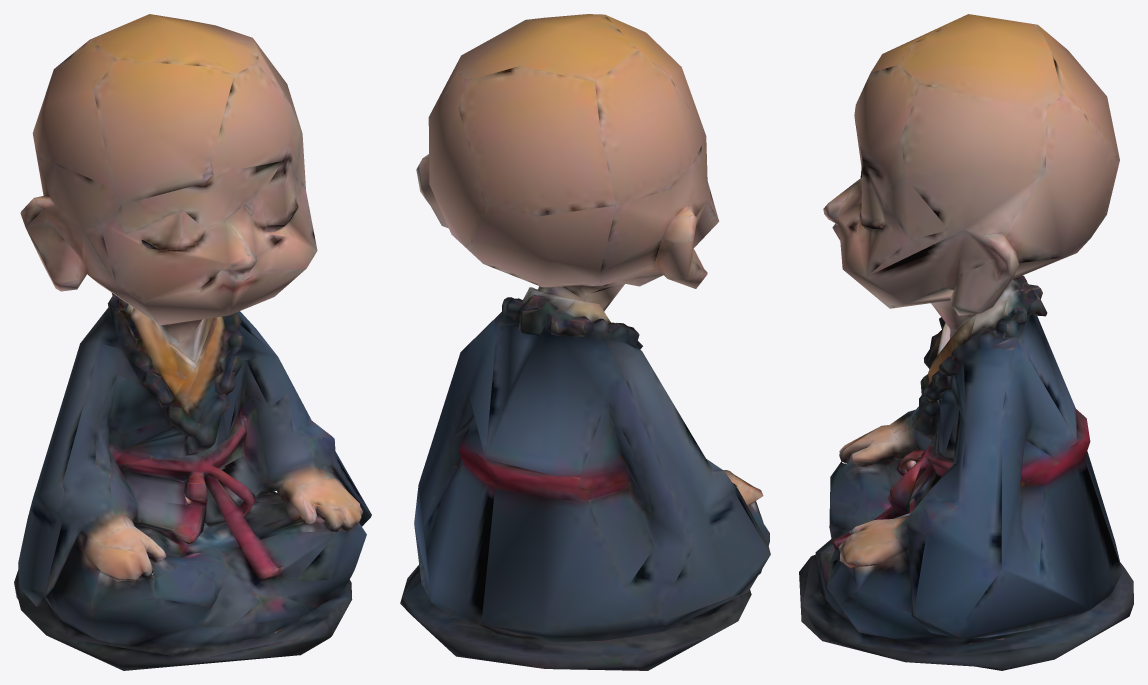
Rendered from Little_Monk2.glb.
3 renders of one model, left to right at view 1: azimuth 30°, elevation 25°; view 2: azimuth 150°, elevation 25°; view 3: azimuth 270°, elevation 25°, orthographic. The views are drawn at different scales.
Parts seen in each view (by area): view 1: 3d66-Editable_Poly-22984928-001; view 2: 3d66-Editable_Poly-22984928-001; view 3: 3d66-Editable_Poly-22984928-001.
Boxes of the visible parts, box(x1,y1,x2,y2) form: 3d66-Editable_Poly-22984928-001: box(14, 14, 371, 670); 3d66-Editable_Poly-22984928-001: box(400, 14, 770, 670); 3d66-Editable_Poly-22984928-001: box(799, 14, 1133, 670).
Size of the model in its own units: 0.5935 by 0.9933 by 0.5251.
1 material, 1 textured.
